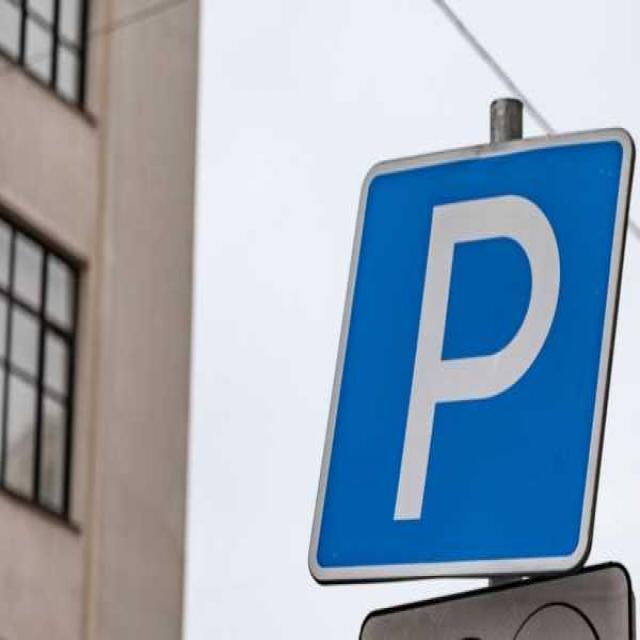parking: (330, 122, 630, 580)
